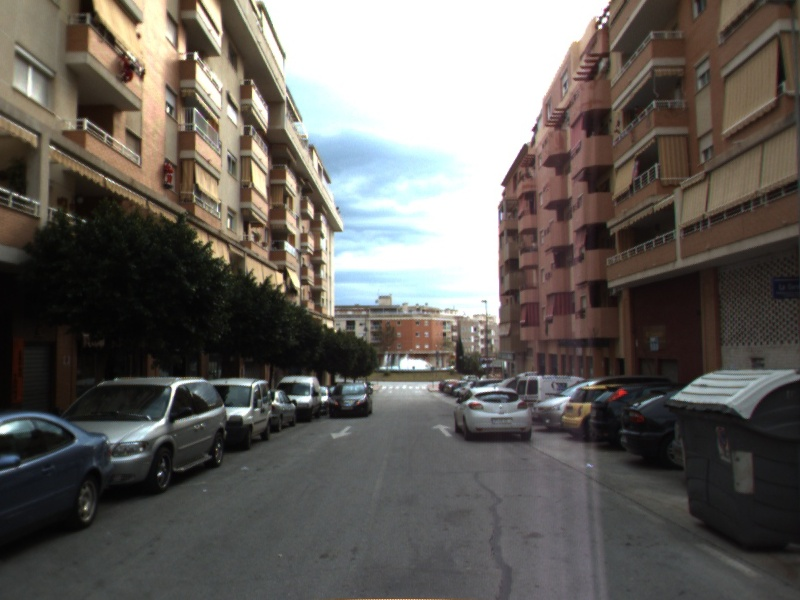STRAIGHT: (430, 421, 455, 438)
